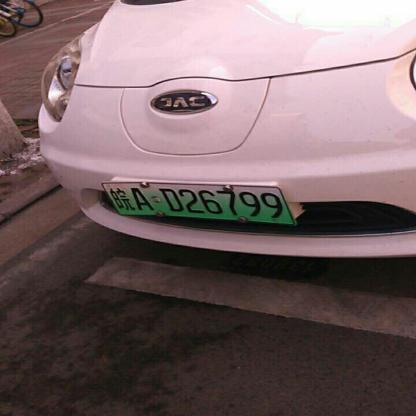lp: (103, 184, 296, 224)
